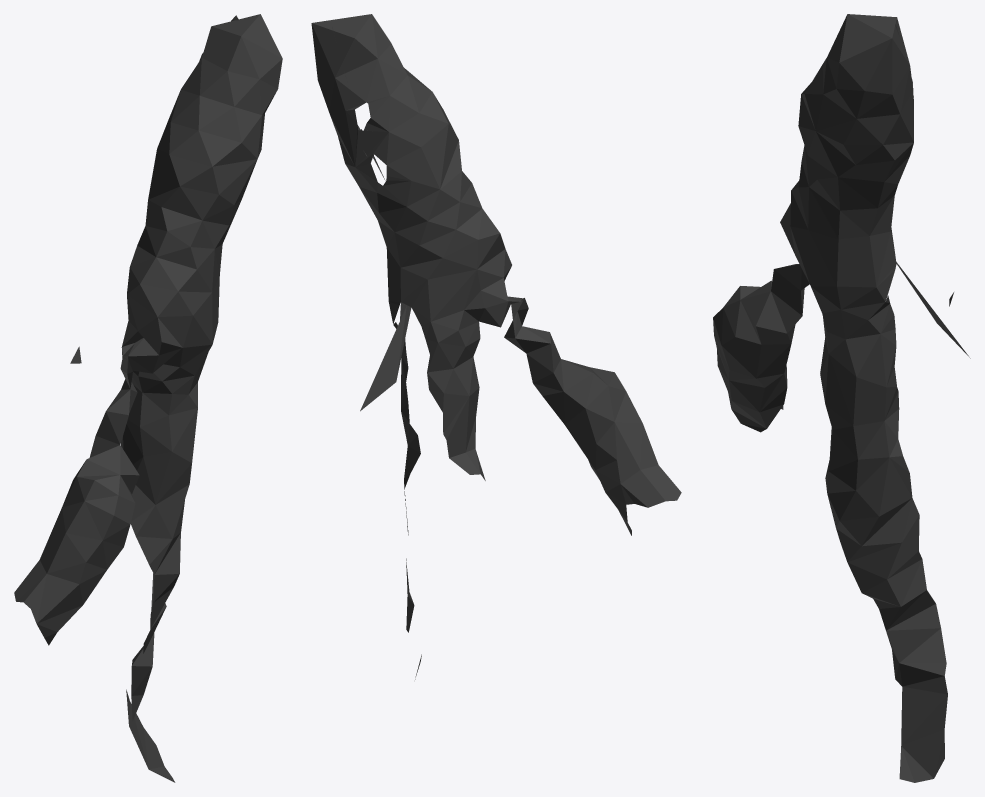
Rendered from A_unused_8_Group56721.glb.
The picture shows the model from 3 angles, left to right: view 1: azimuth 30°, elevation 25°; view 2: azimuth 150°, elevation 25°; view 3: azimuth 270°, elevation 25°; orthographic projection. The views are drawn at different scales.
Parts seen in each view (by area): view 1: A_unused_8_Group56721; view 2: A_unused_8_Group56721; view 3: A_unused_8_Group56721.
Part boxes in pixels (x1,y1,x2,y2): A_unused_8_Group56721: [14, 14, 282, 782]; A_unused_8_Group56721: [311, 14, 681, 679]; A_unused_8_Group56721: [713, 14, 970, 782].
Bounding box in the file's own units: 0.00862 × 0.0201 × 0.00596.
Materials: 1 (1 with a texture image).
